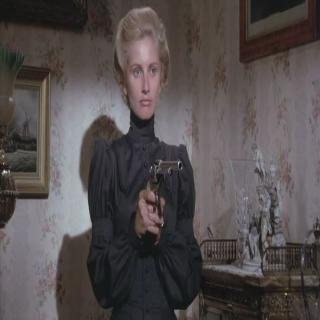gun: (132, 140, 179, 238)
